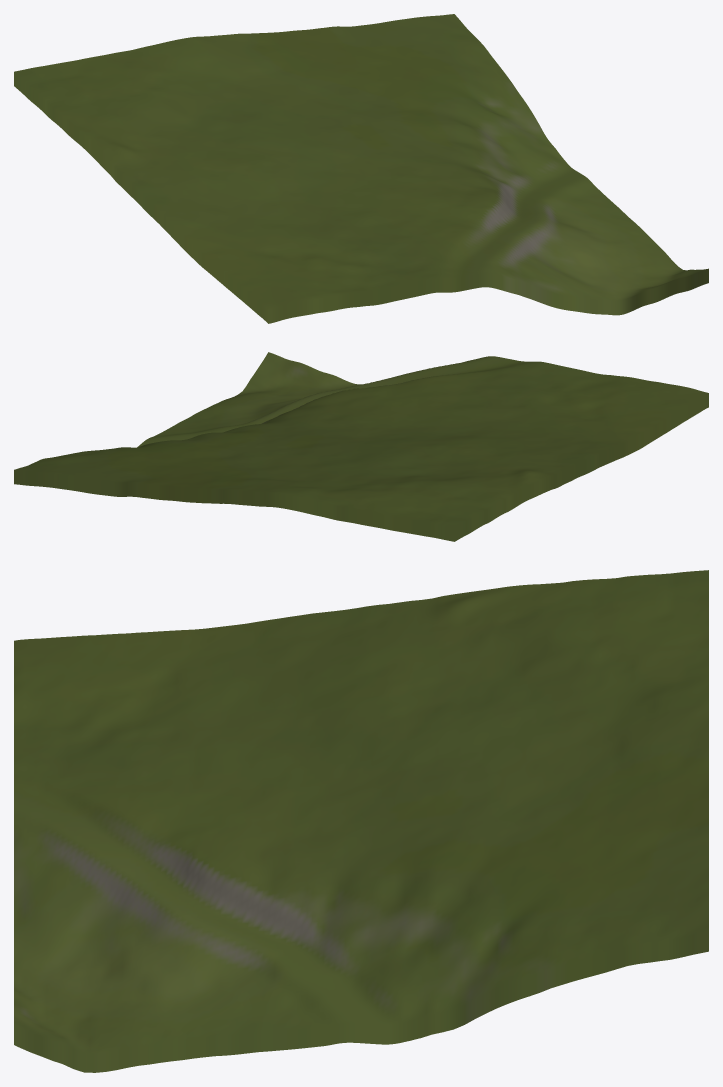
The model's file is terrain_1_-3.glb.
3 renders of one model, top to bottom at view 1: azimuth 30°, elevation 25°; view 2: azimuth 150°, elevation 25°; view 3: azimuth 270°, elevation 25°, orthographic. The views are drawn at different scales.
Visible parts, largest first — view 1: terrain_1_-3; view 2: terrain_1_-3; view 3: terrain_1_-3.
Part boxes in pixels (<box>): terrain_1_-3: <box>14,14,708,323</box>; terrain_1_-3: <box>14,352,708,541</box>; terrain_1_-3: <box>14,570,708,1072</box>.
Size of the model in its own units: 256 by 84.95 by 256.
